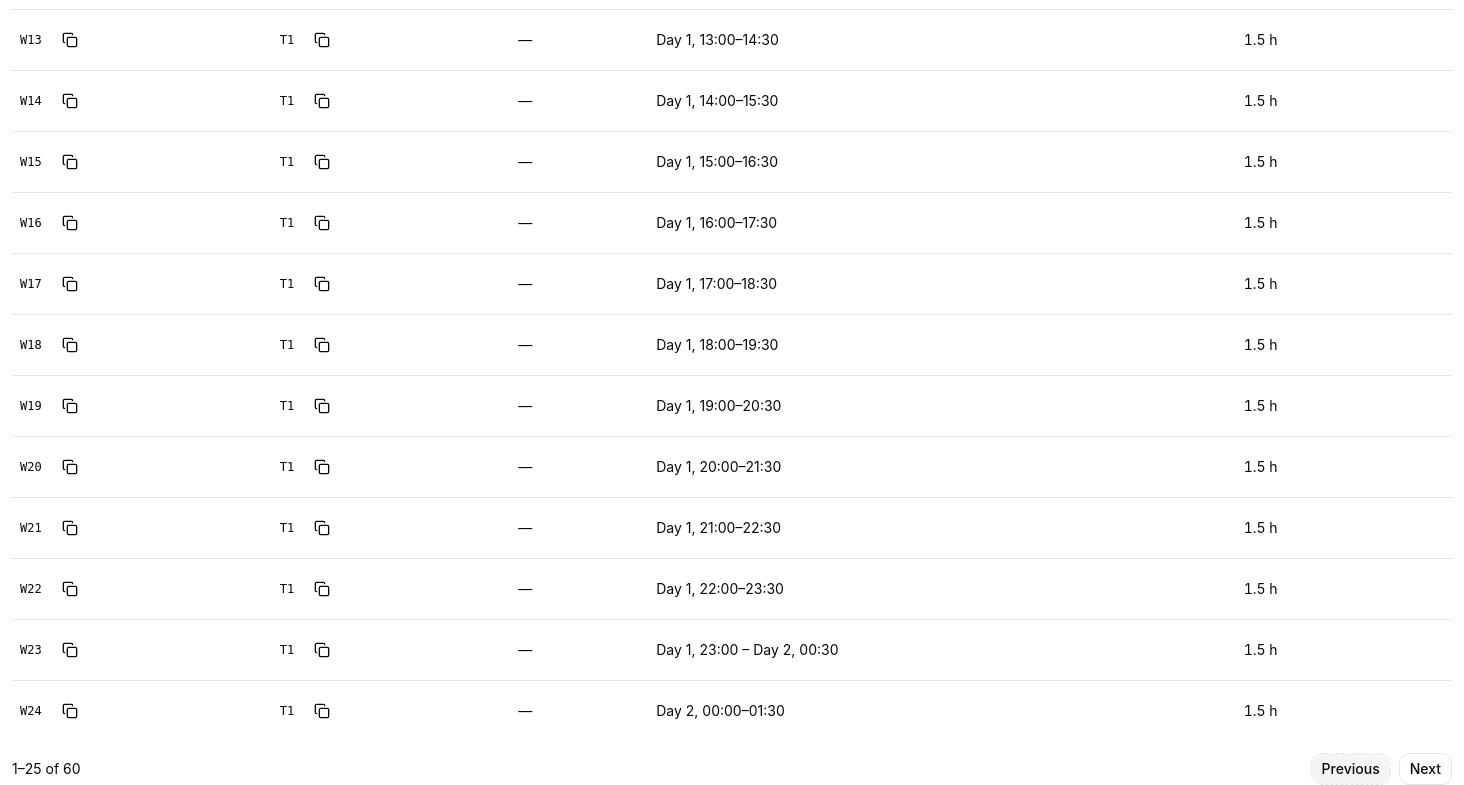
CandidateScheduleTable › sorts by worker name and paginates 25 per page
(page scrolled)
Check: the text "1–25 of 60" is shown, box [12, 758, 80, 778]
Check: the button "Previous" is disabled, box [1311, 752, 1391, 784]
Click the button "Next".
click(1425, 768)  # box [1399, 752, 1452, 784]
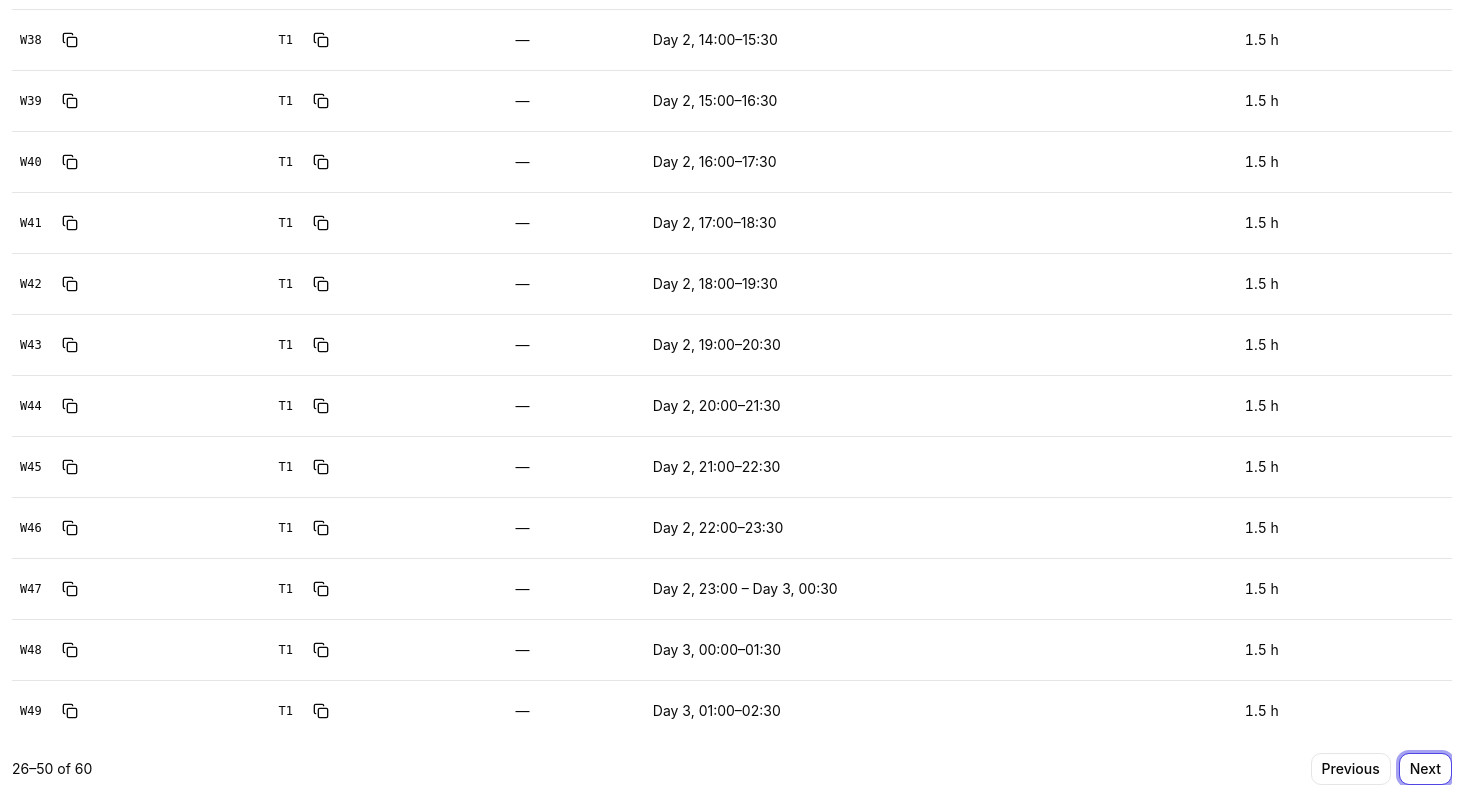
Click the button "Next".
click(1425, 768)  # box [1399, 752, 1452, 784]
(page scrolled)
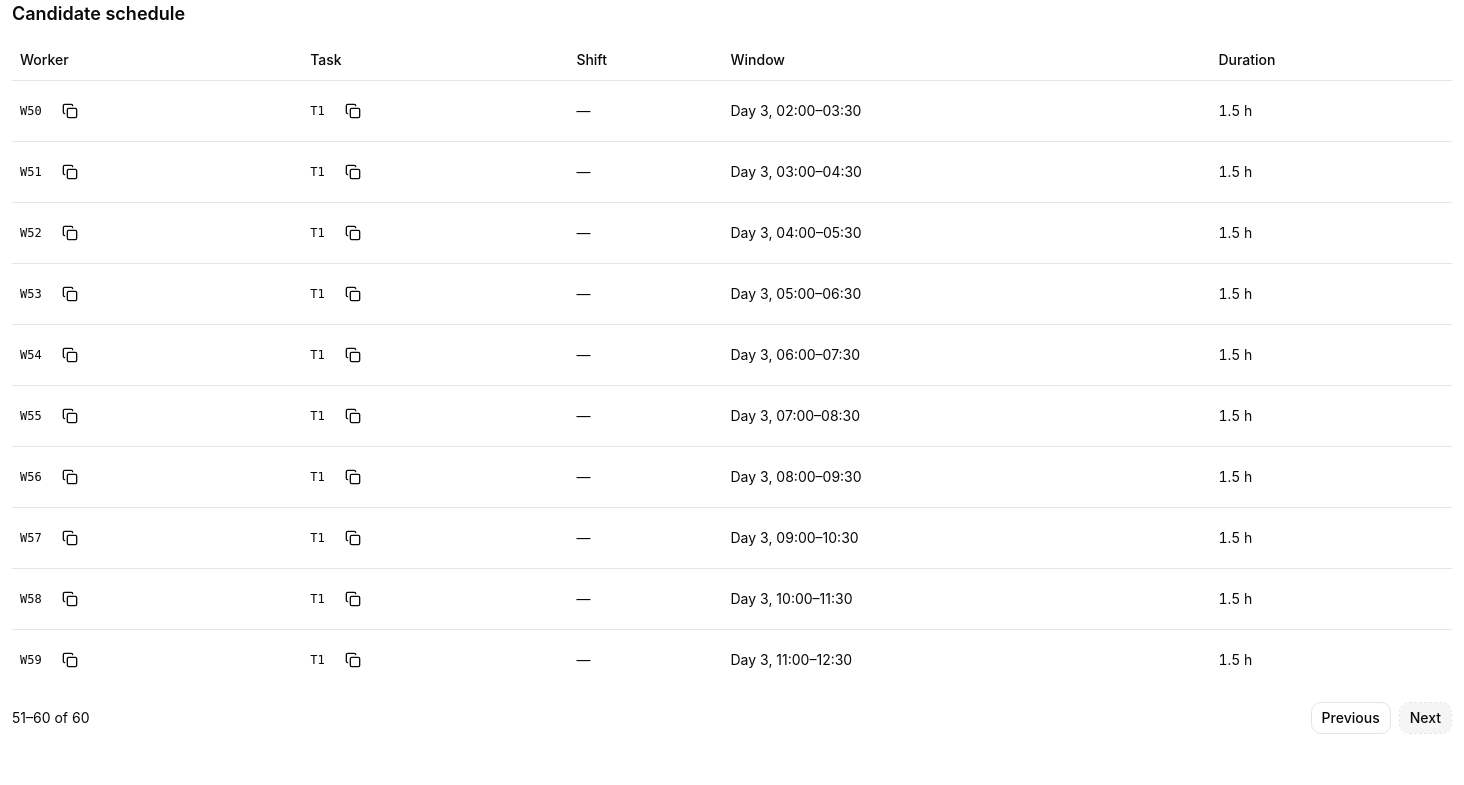
Check: the text "51–60 of 60" is shown, box [12, 708, 90, 728]
Check: the button "Next" is disabled, box [1399, 702, 1452, 734]
